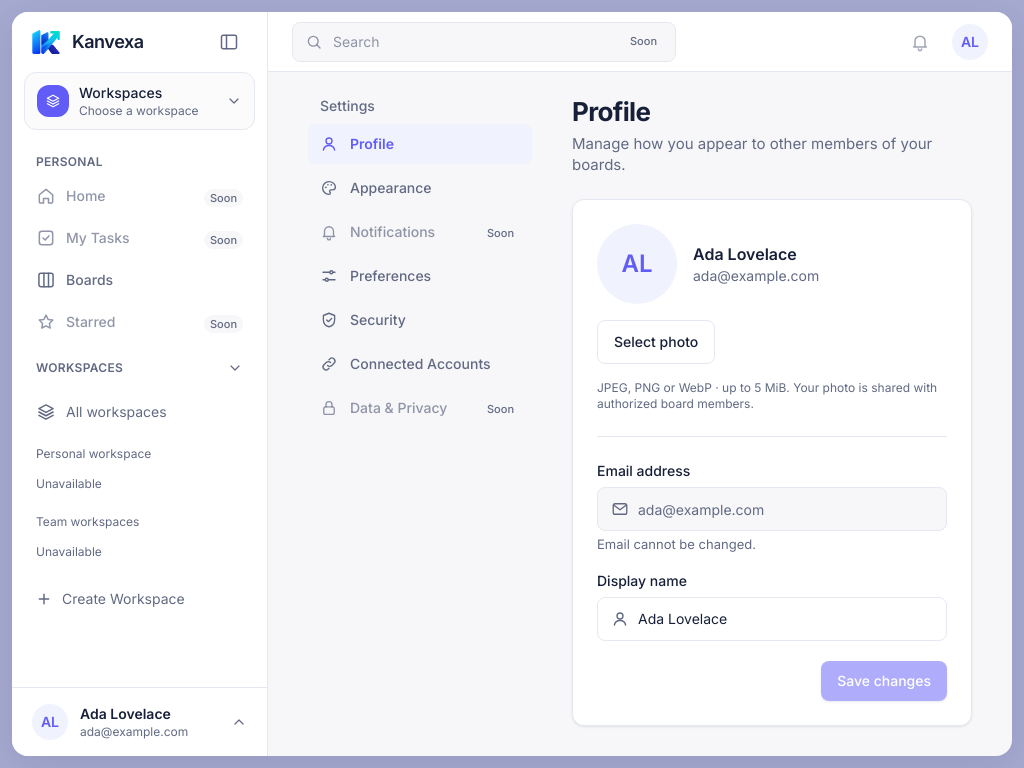
auth session isolation › isolates a pending PATCH across an incoming account switch ({"status":200,"body":{"success":true,"statusCode":200,"message":"OK","data":{"id":"00000000-0000-400
expect the heading "Profile" is shown: met, box [572,96,650,127]
Replace the text in the field labelled "Display name" with "Old session profile" at (772, 619), box [597,597,947,641]
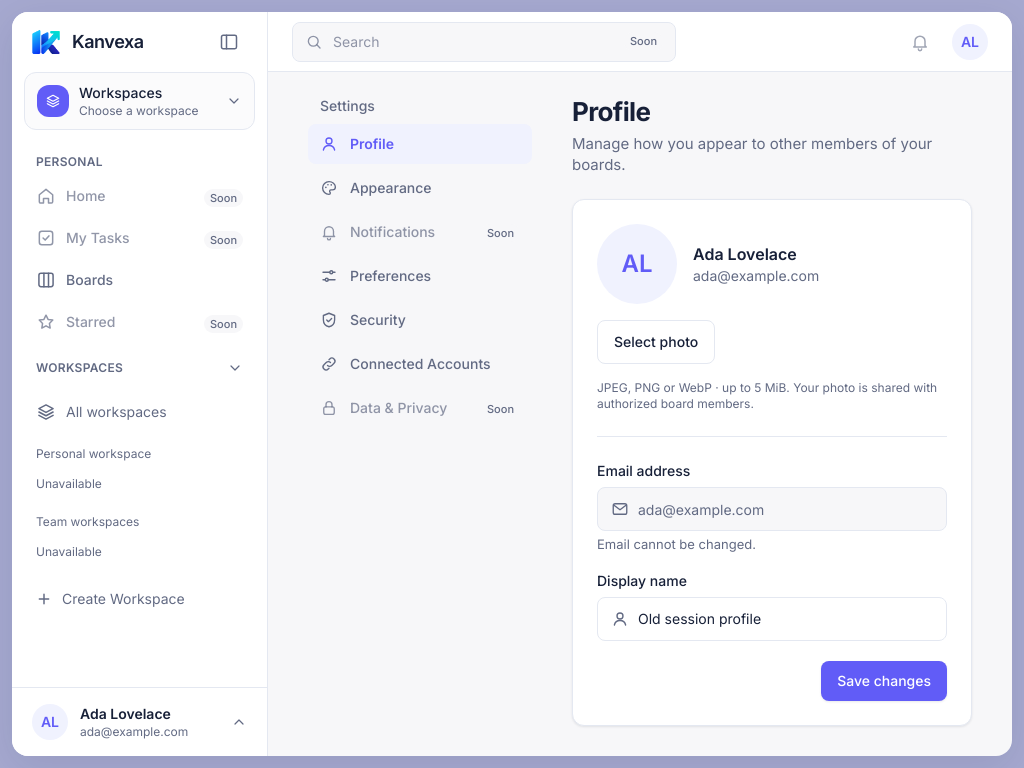
Click the button "Save changes" at (884, 681), box [821,661,947,701]
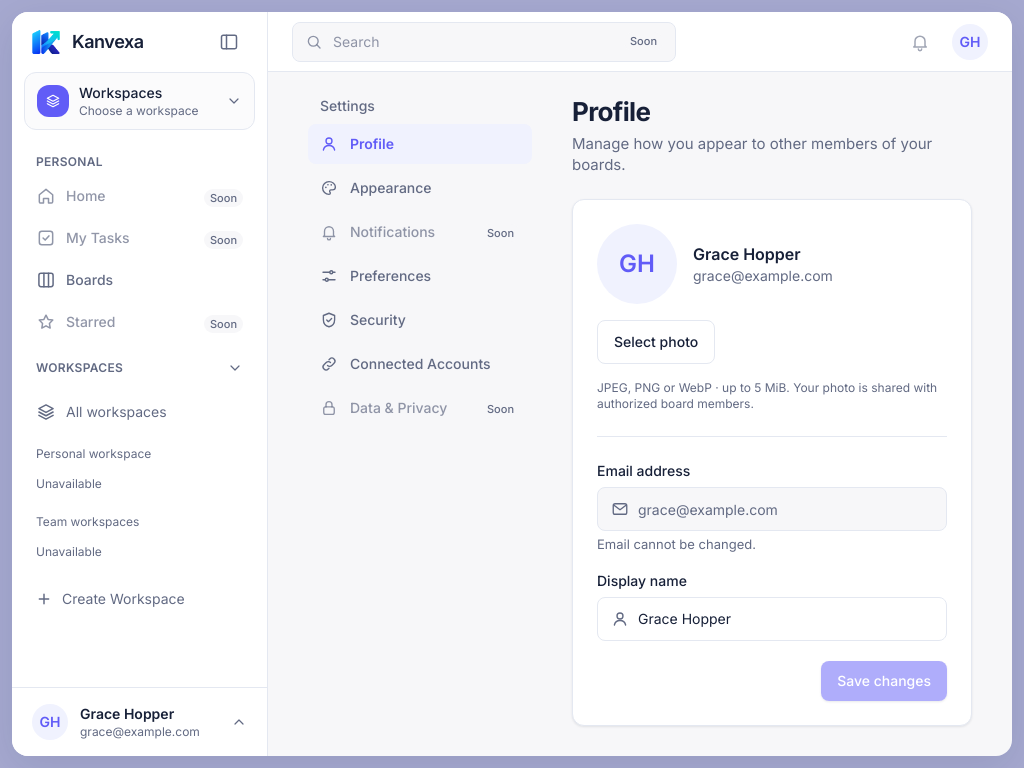
expect the heading "Profile" is shown: met, box [572,96,650,127]
expect the button with aria-label "Account menu for Grace Hopper" is shown: met, box [24,696,255,748]
